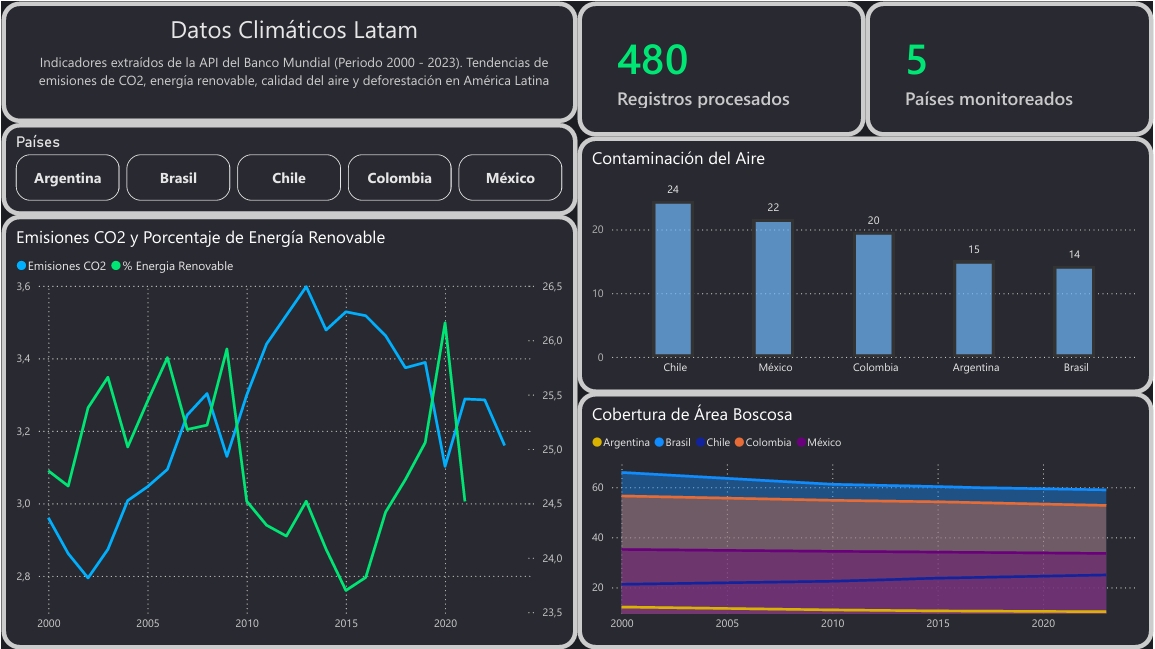

What the dashboard file says about the page in this screenshot:
{"tool":"powerbi","page":{"name":"Latam","canvas":[1280,720],"ordinal":0},"visuals":[{"type":"cardVisual","fields":{"Data":["CountNonNull(public dim_pais.idpais)"]},"box":[960,0,320,150],"z":0},{"type":"cardVisual","fields":{"Data":["CountNonNull(public fact_metrica.idindicador)"]},"box":[640,0,320,150],"z":1000},{"type":"lineChart","title":"Emisiones CO2 y Porcentaje de Energía Renovable","fields":{"Category":["public fact_metrica.anio"],"Y":["public fact_metrica.Emisiones CO2"],"Y2":["public fact_metrica.% Energia Renovable"]},"box":[0,237.1,640,482.9],"z":2000},{"type":"clusteredColumnChart","title":"Contaminación del Aire ","fields":{"Category":["public dim_pais.nombre"],"Y":["public fact_metrica.Calidad Aire"]},"box":[640,150,640,285.7],"z":3000},{"type":"areaChart","title":"Cobertura de Área Boscosa","fields":{"Category":["public fact_metrica.anio"],"Y":["public fact_metrica.Bosques"],"Series":["public dim_pais.nombre"]},"box":[640,434.3,640,285.7],"z":4000},{"type":"advancedSlicerVisual","title":"Países","fields":{"Values":["public dim_pais.nombre"]},"box":[0,135,640,102.5],"z":5000},{"type":"shape","title":"Datos Climáticos Latam","box":[0,0,640,135],"z":6000}]}

Visuals, with their boxes in screenshot pixels (x1, y1, x2, y2), scaled from the page's 1280x720 canvas onto the 1155x649 screenshot:
cardVisual - CountNonNull(public dim_pais.idpais): <bbox>866, 0, 1154, 135</bbox>
cardVisual - CountNonNull(public fact_metrica.idindicador): <bbox>578, 0, 866, 135</bbox>
"Emisiones CO2 y Porcentaje de Energía Renovable" lineChart: <bbox>0, 214, 578, 648</bbox>
"Contaminación del Aire " clusteredColumnChart: <bbox>578, 135, 1154, 393</bbox>
"Cobertura de Área Boscosa" areaChart: <bbox>578, 391, 1154, 648</bbox>
"Países" advancedSlicerVisual: <bbox>0, 122, 578, 214</bbox>
"Datos Climáticos Latam" shape: <bbox>0, 0, 578, 122</bbox>
